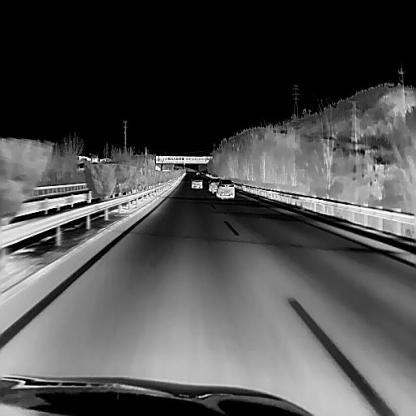car: (215, 177, 234, 198), (190, 174, 203, 188), (208, 178, 220, 191)
